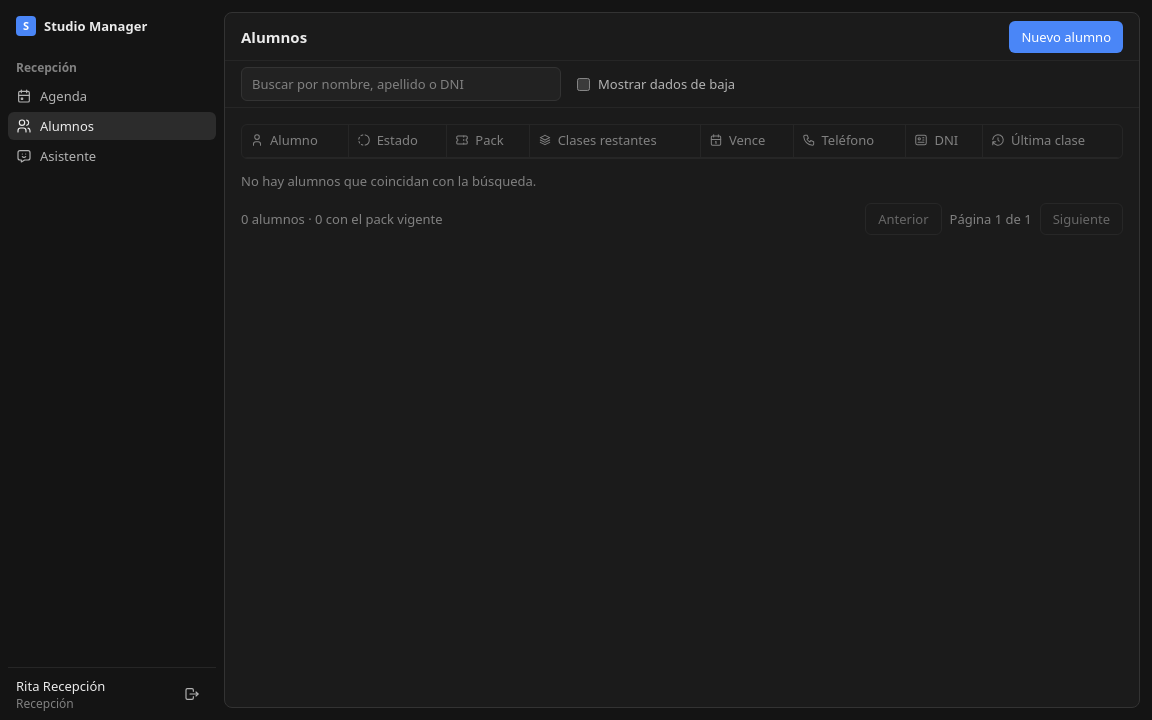
Test: /alumnos › buscar "garcia" pide la búsqueda a la API y muestra el resultado
Step 1. Type "garcia" into the search field named "Buscar alumno" → (401, 84), box [241,67,561,101]
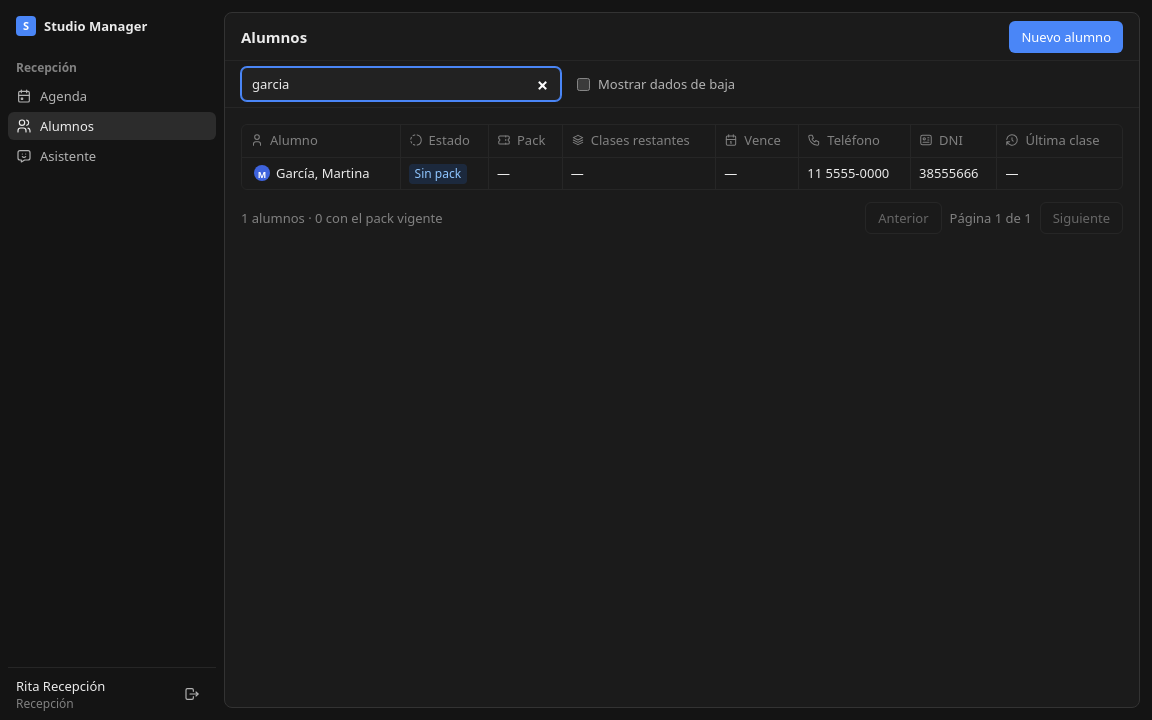
Expected: the link "M García, Martina" is shown, [250,161,374,185]
